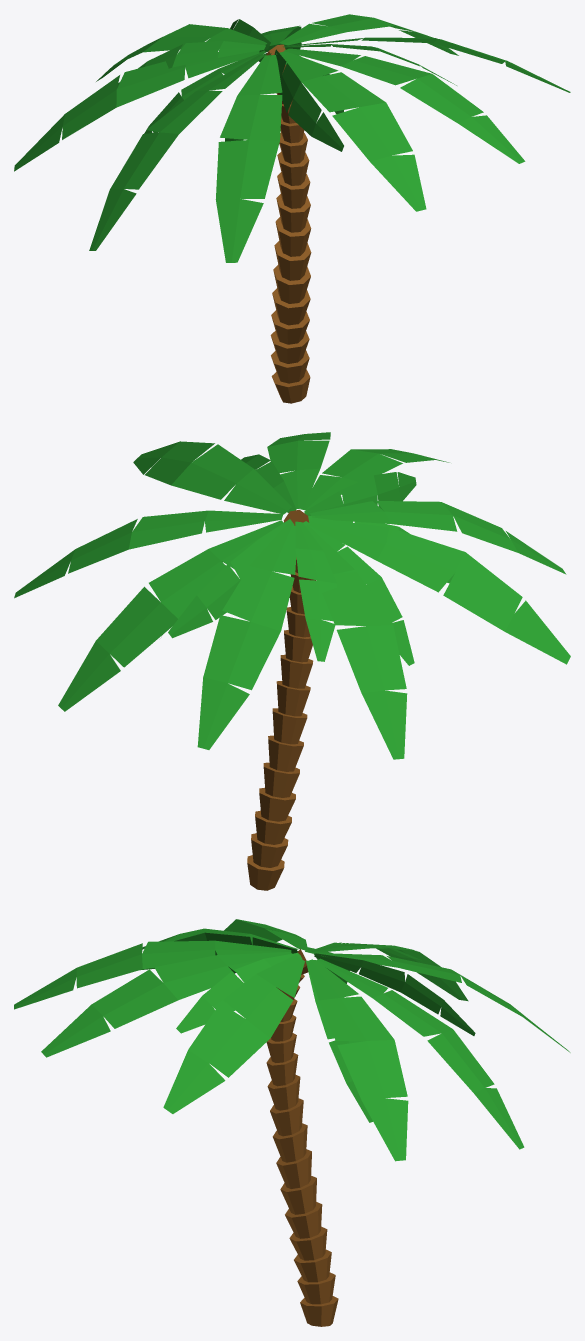
Rendered from ExportedBlenderFBXFile.fbx.
The picture shows the model from 3 angles, top to bottom: view 1: azimuth 30°, elevation 25°; view 2: azimuth 150°, elevation 25°; view 3: azimuth 270°, elevation 25°; orthographic projection. The views are drawn at different scales.
Parts seen in each view (by area): view 1: Cube, Plane.002, Plane, Plane.003, Plane.009, Plane.004, Plane.014, Plane.005, Plane.007, Plane.013, Plane.008, Plane.010 (+1 smaller); view 2: Plane.005, Plane.003, Cube, Plane.006, Plane.004, Plane.008, Plane.007, Plane.002, Plane.013, Plane.015, Plane.009, Plane (+3 smaller); view 3: Cube, Plane.008, Plane.007, Plane.009, Plane.006, Plane, Plane.015, Plane.017, Plane.005, Plane.004, Plane.003, Plane.016 (+3 smaller).
Part boxes in pixels (x1,y1,x2,y2): Cube: (266,44,311,403); Plane.002: (215,55,282,262); Plane: (276,51,426,211); Plane.003: (89,54,265,250); Plane.009: (284,48,525,163); Plane.004: (14,50,259,171); Plane.014: (274,49,343,151); Plane.005: (96,24,266,81); Plane.007: (279,14,458,55); Plane.013: (117,41,265,88); Plane.008: (288,37,570,92); Plane.010: (144,50,265,133); Plane.005: (197,524,296,749); Plane.003: (309,517,570,664); Cube: (247,509,315,890); Plane.006: (58,520,283,711); Plane.004: (305,525,407,759); Plane.008: (133,441,291,514); Plane.007: (14,510,283,598); Plane.002: (310,501,566,574); Plane.013: (295,521,336,661); Plane.015: (168,519,294,638); Plane.009: (267,432,330,509); Plane: (300,449,449,511); Cube: (266,949,338,1326); Plane.008: (163,955,304,1113); Plane.007: (305,960,408,1161); Plane.009: (41,952,291,1057); Plane.006: (317,958,524,1149); Plane: (14,940,291,1009); Plane.015: (314,953,475,1035); Plane.017: (176,953,302,1033); Plane.005: (319,953,570,1052); Plane.004: (310,942,468,1001); Plane.003: (224,919,308,951); Plane.016: (307,959,372,1122).
Bounding box in the file's own units: 11.06 × 8.72 × 11.85.
